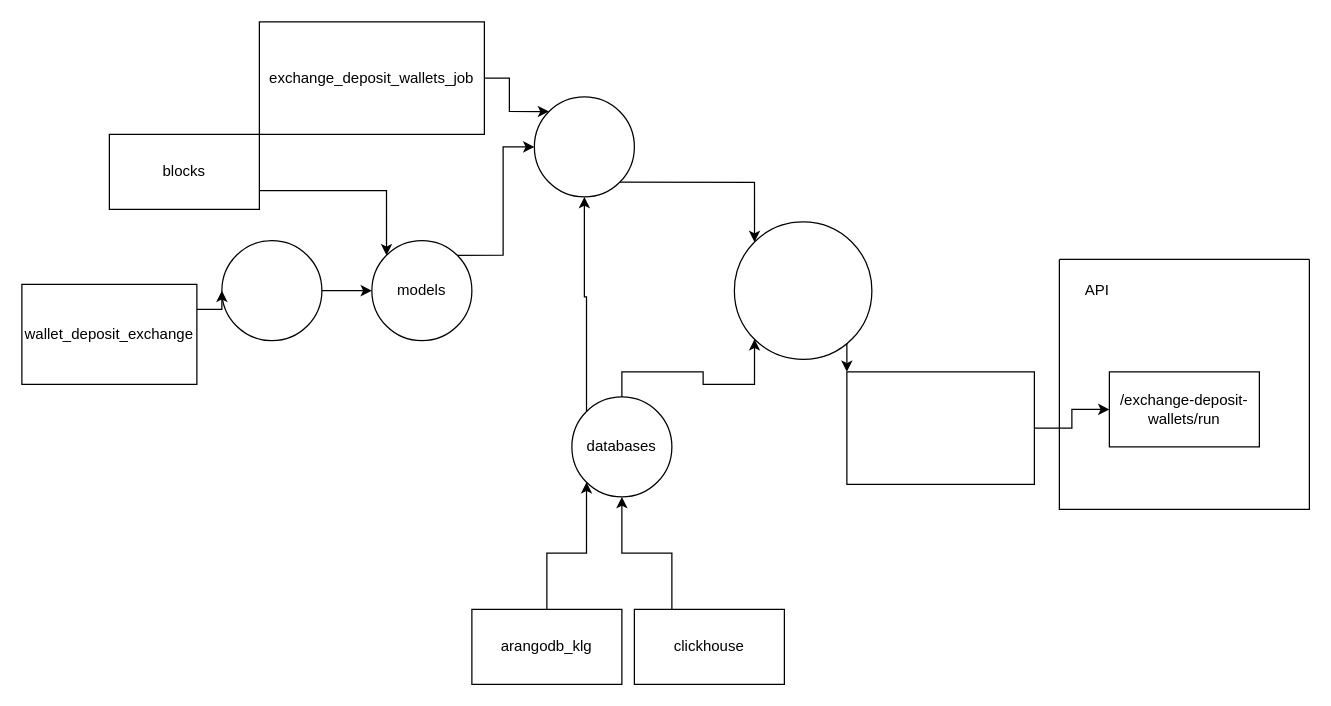
Some shapes in this 1331 by 706 pixel diagram are drawn without their labels. The shapes that lost their labels are listed below. From the top down, each one's centre as x and y in pixels, then its label:
At (x=583, y=146): "jobs / deposits_reuse".
At (x=271, y=290): "wallet".
At (x=802, y=290): "cli / deposit_reuse".
At (x=940, y=427): "exchange_deposit_wallets".
